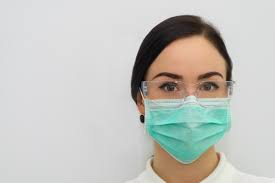mask: (131, 19, 237, 154)
